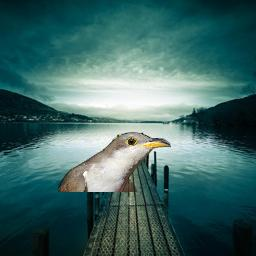Cuckoo: (58, 132, 171, 192)
